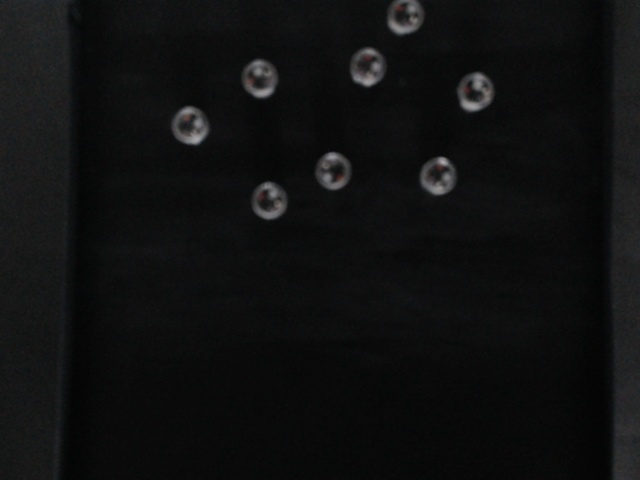epuck_2: (170, 102, 210, 148), (455, 69, 496, 113), (418, 155, 459, 198), (314, 149, 355, 191), (251, 181, 291, 221), (240, 59, 281, 98), (349, 46, 386, 89), (386, 1, 427, 37)
